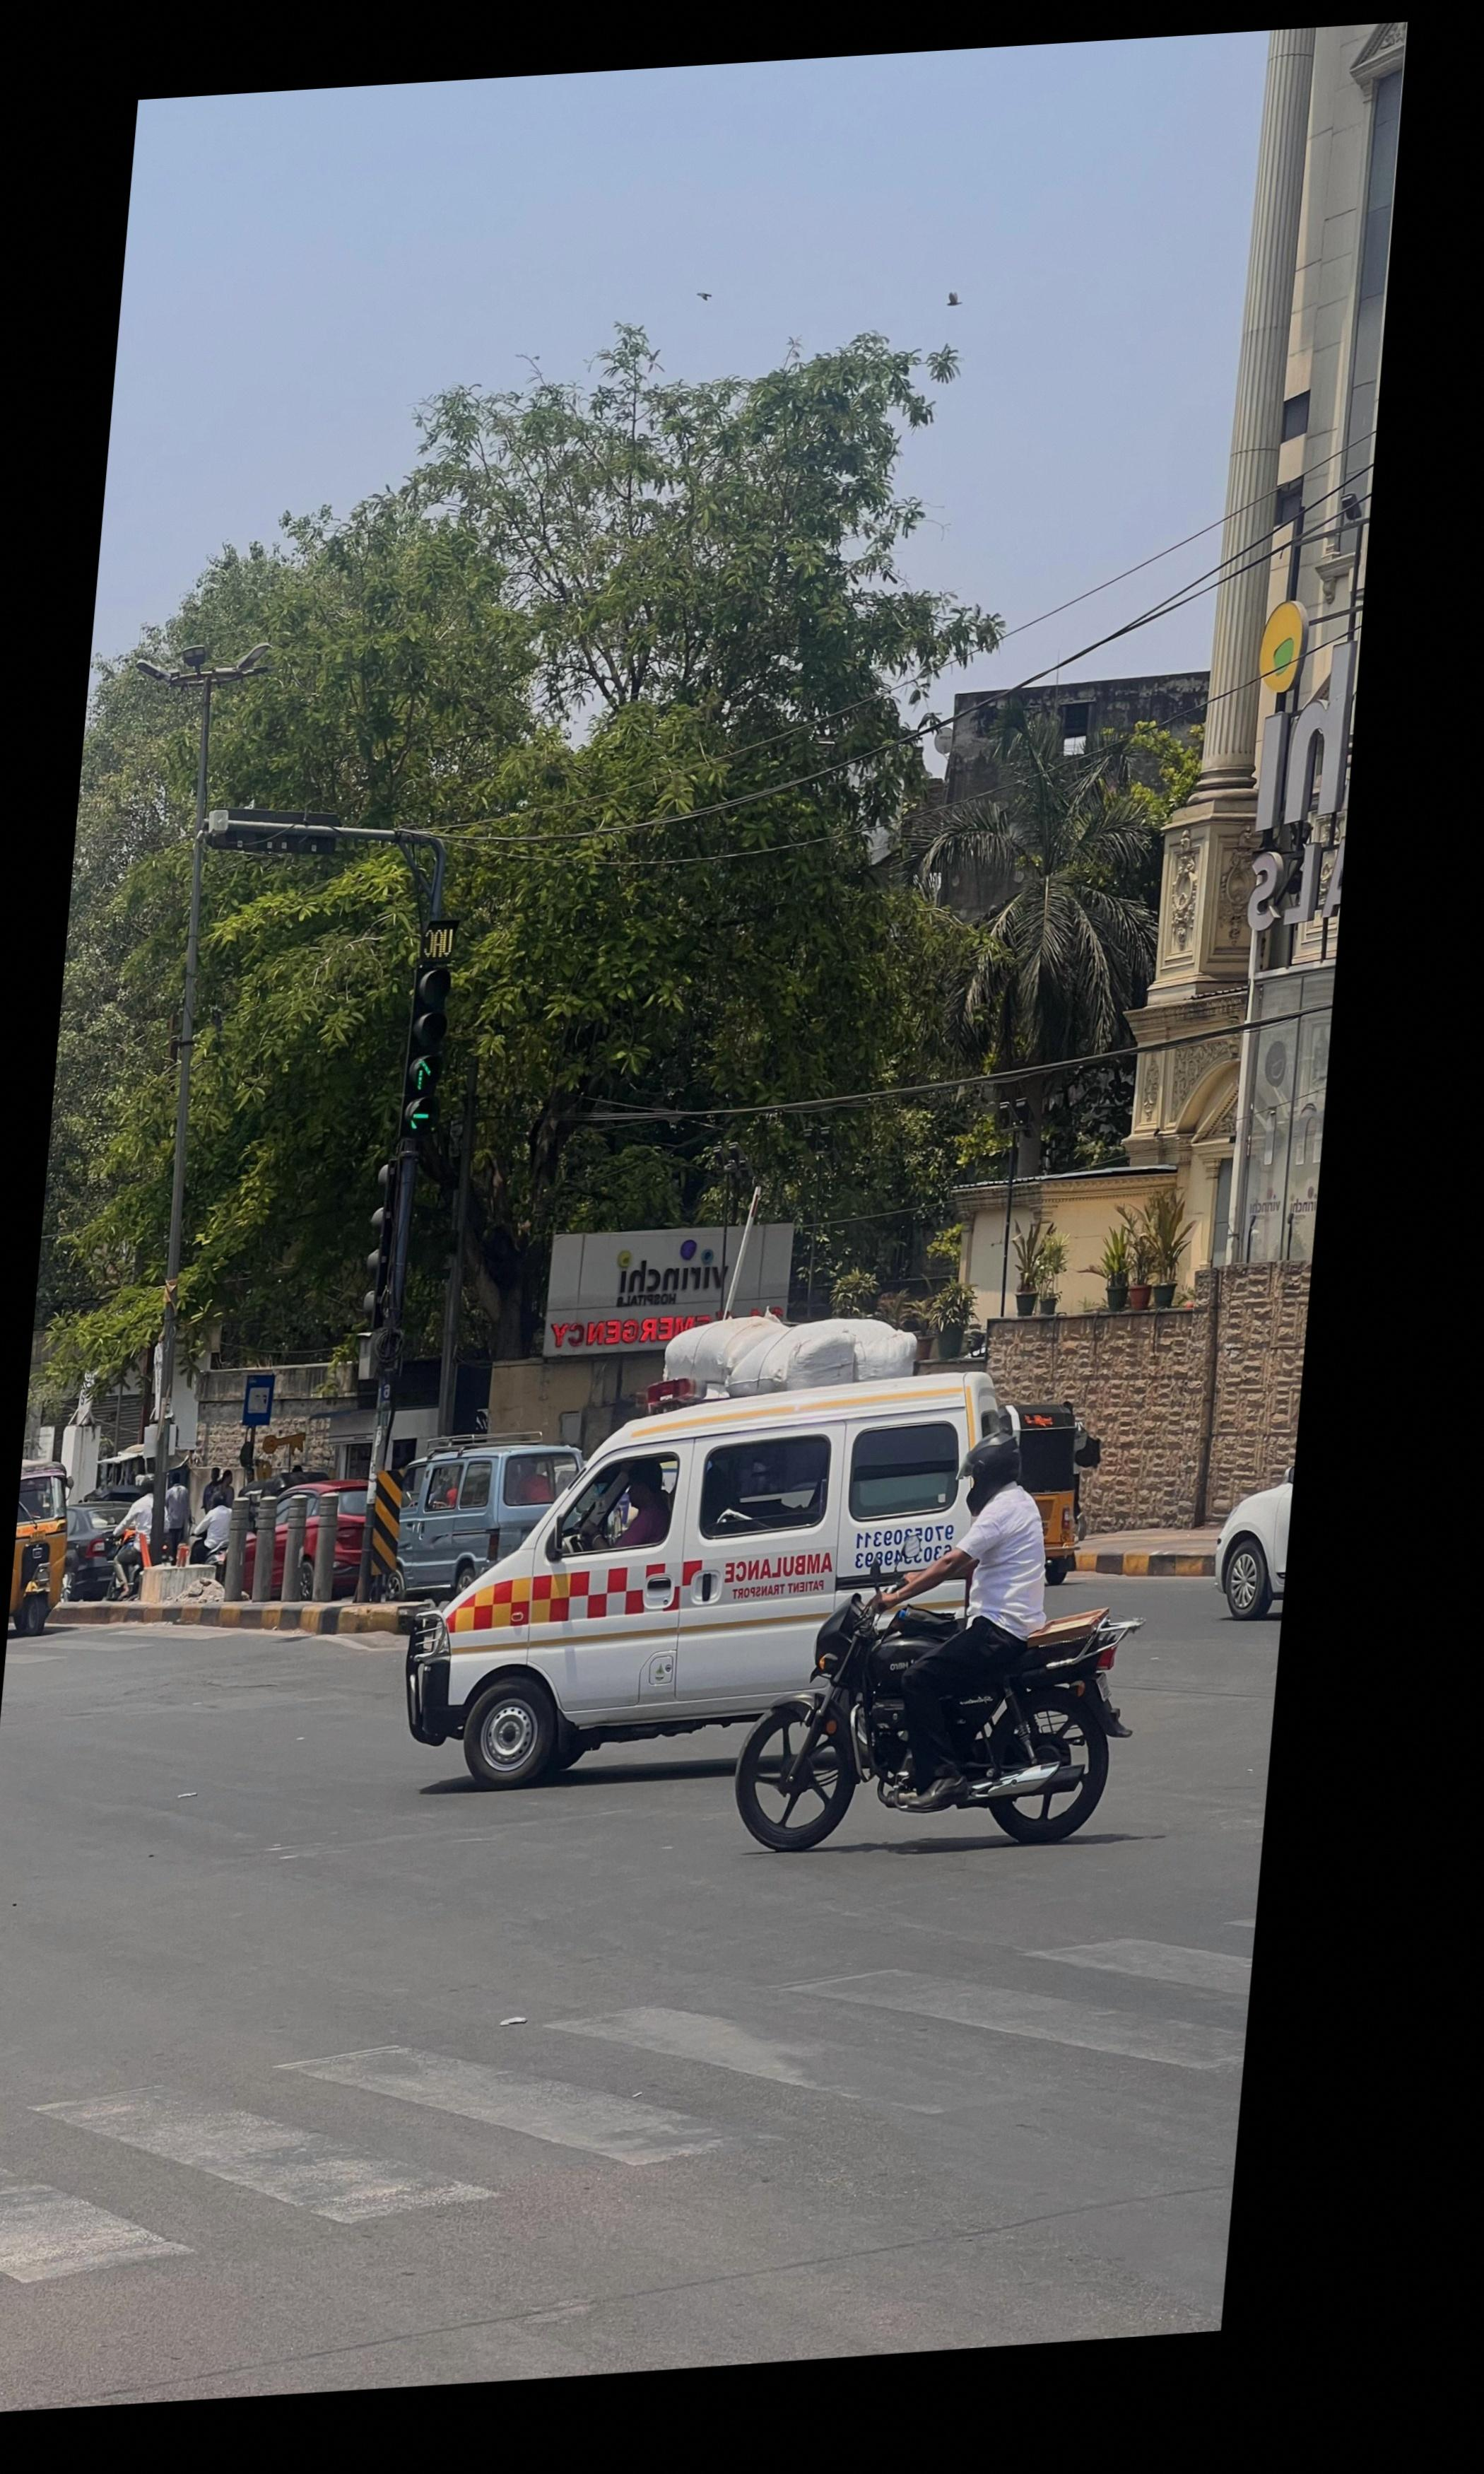ambulance: (405, 1318, 1000, 1792)
